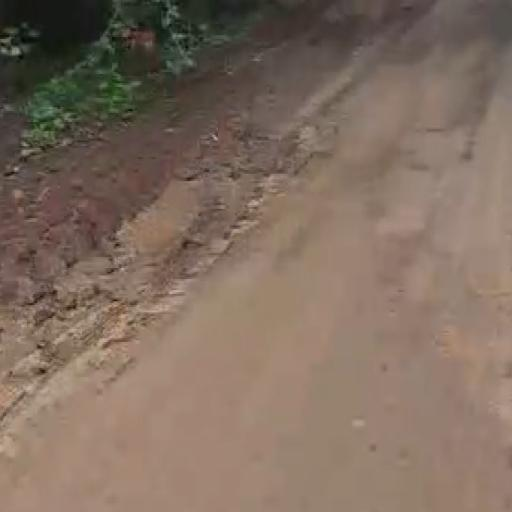edge_damage: (58, 116, 393, 446)
